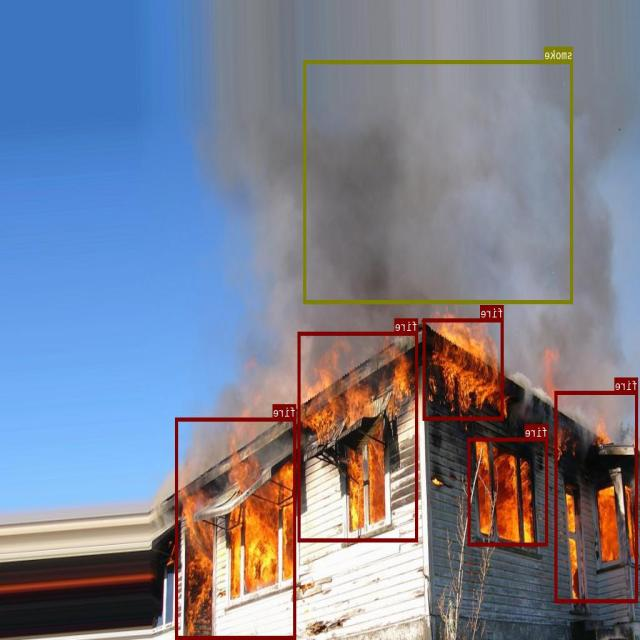fire: (176, 417, 297, 638), (298, 332, 418, 542), (555, 390, 638, 602), (469, 437, 548, 546), (424, 318, 504, 420)
smoke: (304, 60, 574, 303)
